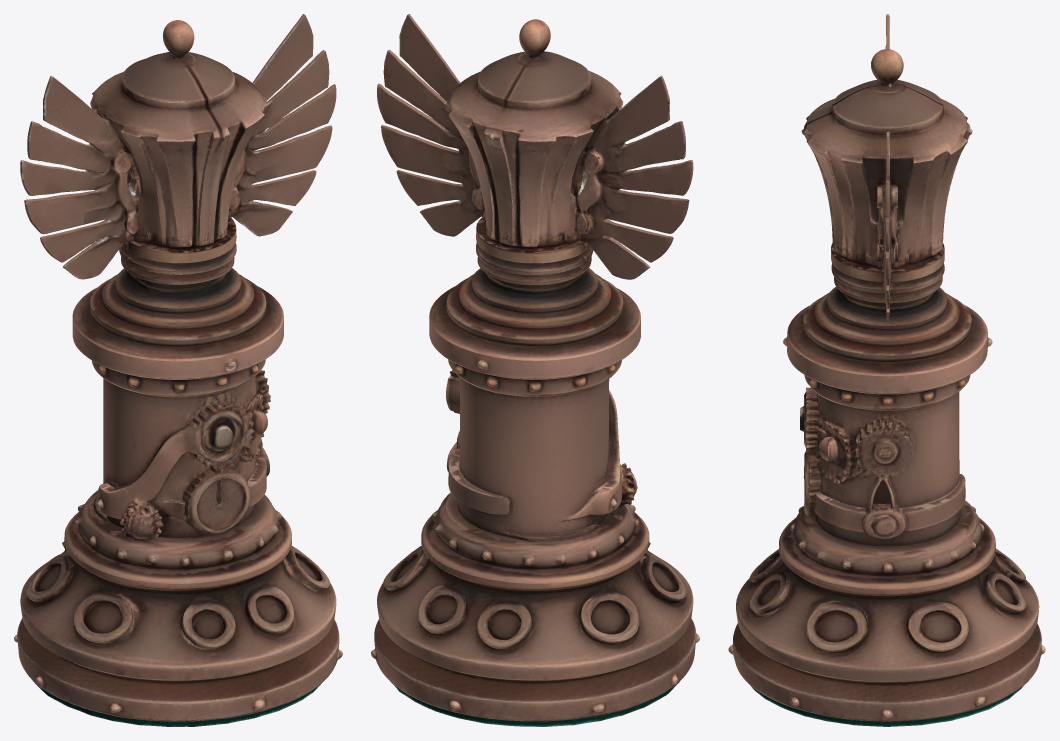
The model's file is bishop2.glb.
The picture shows the model from 3 angles, left to right: view 1: azimuth 30°, elevation 25°; view 2: azimuth 150°, elevation 25°; view 3: azimuth 270°, elevation 25°; orthographic projection. The views are drawn at different scales.
Visible parts, largest first — view 1: model; view 2: model; view 3: model.
Boxes of the visible parts, x1,y1,x2,y2 form: model: (14, 14, 342, 726); model: (371, 14, 699, 726); model: (728, 14, 1045, 726).
Size of the model in its own units: 0.9763 by 1.9 by 0.8874.
1 material, 1 textured.
